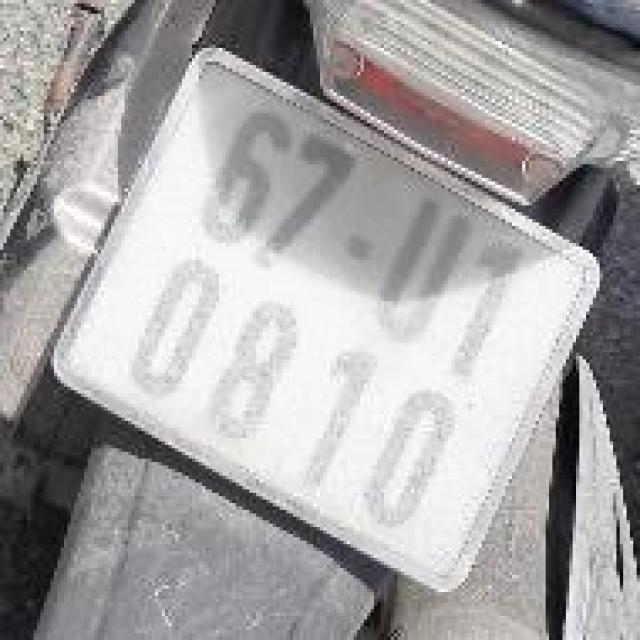0: (342, 364, 487, 549), (107, 241, 243, 415)
1: (419, 214, 547, 399), (276, 313, 395, 504)
6: (173, 91, 321, 279)
7: (227, 113, 377, 284)
8: (189, 280, 317, 458)
U: (349, 159, 500, 379)
